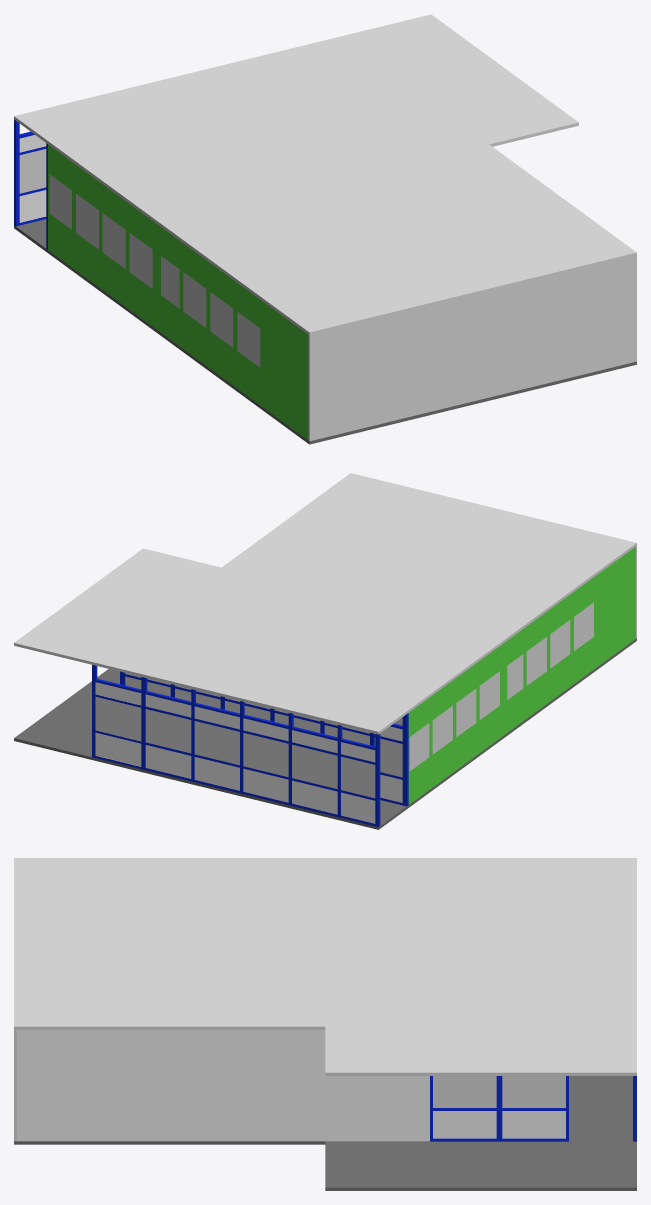
The model's file is Modell.glb.
The picture shows the model from 3 angles, top to bottom: view 1: azimuth 30°, elevation 25°; view 2: azimuth 150°, elevation 25°; view 3: azimuth 270°, elevation 25°; orthographic projection. The views are drawn at different scales.
Parts seen in each view (by area): view 1: ceiling, west, north, east.001, floor; view 2: ceiling, east.001, north, floor, east; view 3: ceiling, south_brickwall, floor, south.door.left, south.door.right.000.
Part boxes in pixels (bbox=[...]): ceiling: bbox=[14, 14, 636, 335]; west: bbox=[308, 256, 636, 441]; north: bbox=[48, 144, 308, 439]; east.001: bbox=[14, 119, 46, 226]; floor: bbox=[14, 219, 636, 444]; ceiling: bbox=[14, 473, 636, 734]; east.001: bbox=[92, 665, 380, 826]; north: bbox=[408, 546, 635, 804]; floor: bbox=[14, 638, 636, 829]; east: bbox=[123, 672, 408, 806]; ceiling: bbox=[14, 858, 636, 1075]; south_brickwall: bbox=[16, 1030, 429, 1141]; floor: bbox=[14, 1076, 636, 1190]; south.door.left: bbox=[499, 1076, 568, 1141]; south.door.right.000: bbox=[430, 1076, 499, 1141].
Size of the model in its own units: 13.61 by 3.5 by 16.7.
